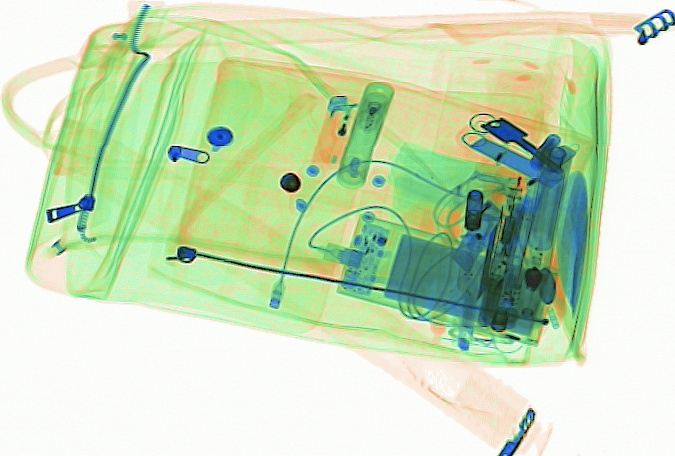lighter: (307, 92, 355, 170)
